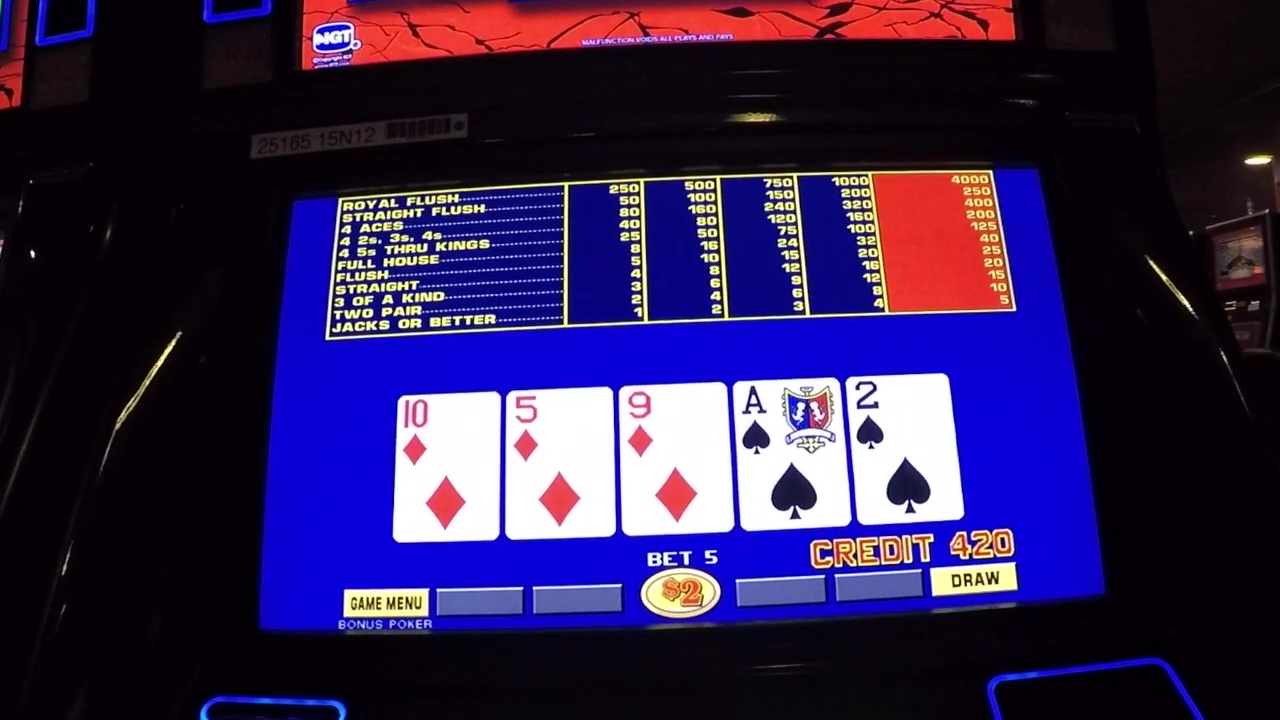D5: (506, 392, 610, 469)
D9: (619, 384, 727, 463)
DT: (392, 396, 499, 469)
S2: (852, 381, 948, 452)
SA: (734, 380, 841, 459)
